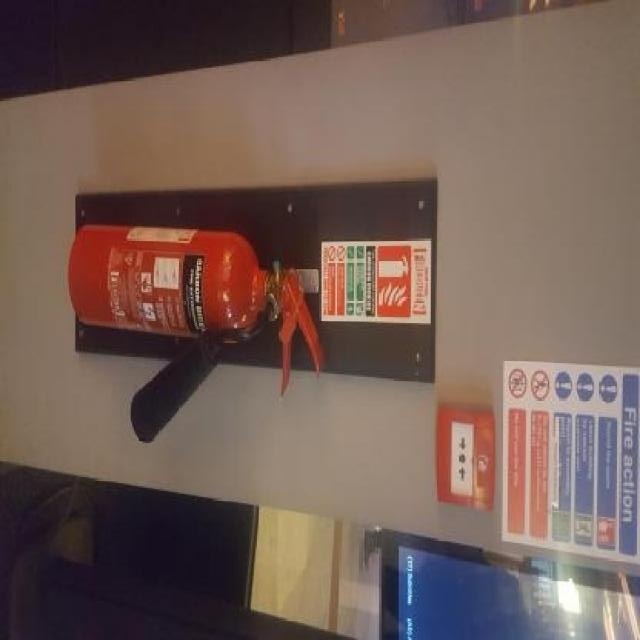fire extinguisher: (64, 199, 330, 446)
